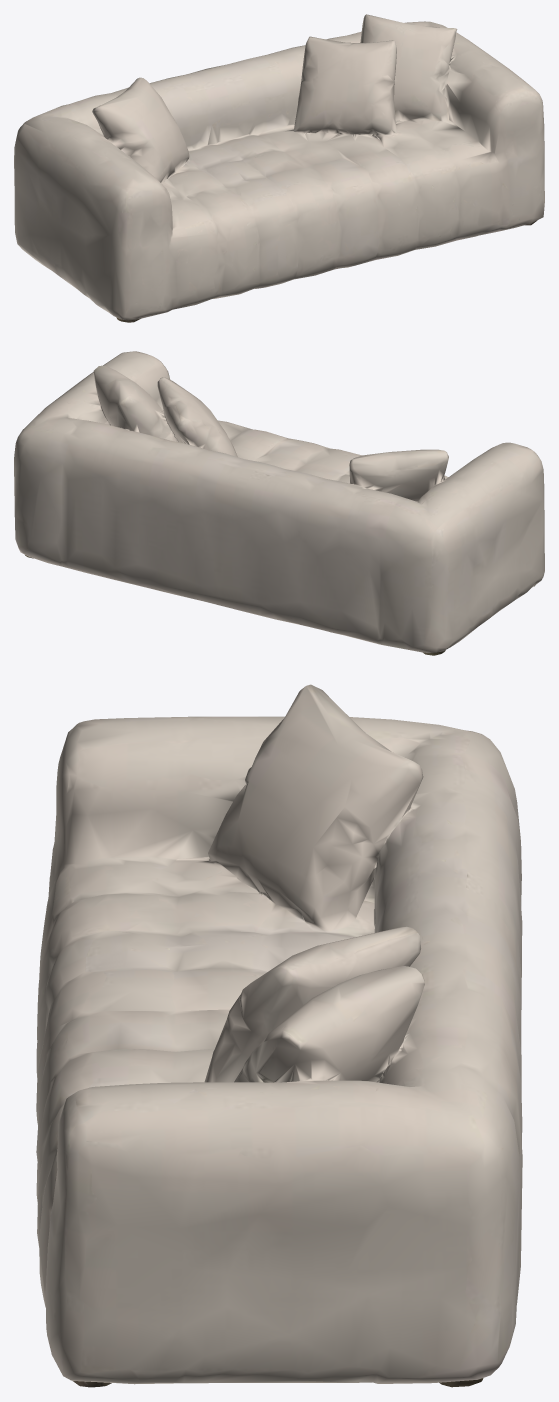
File: sofa.glb
3 renders of one model, top to bottom at view 1: azimuth 30°, elevation 25°; view 2: azimuth 150°, elevation 25°; view 3: azimuth 270°, elevation 25°, orthographic. The views are drawn at different scales.
Visible parts, largest first — view 1: world; view 2: world; view 3: world.
Boxes of the visible parts, box(x1,y1,x2,y2) form: world: box(14, 14, 544, 322); world: box(14, 351, 544, 655); world: box(36, 684, 522, 1387).
Bounding box in the file's own units: 1 × 0.3658 × 0.4811.
1 material, 1 textured.
